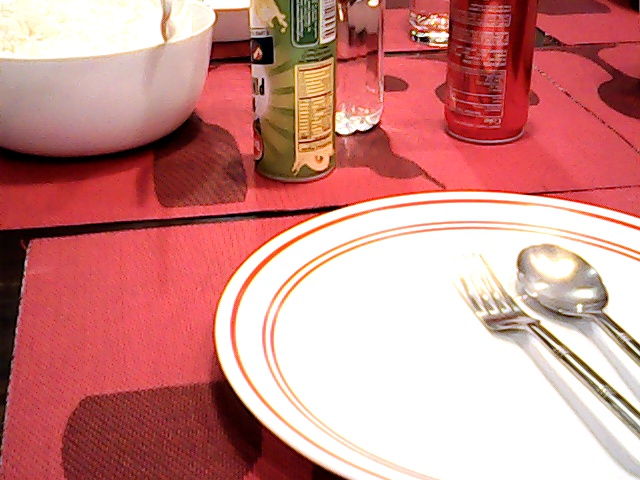Cola: (434, 1, 548, 145)
Pine Juice: (244, 1, 338, 181)
